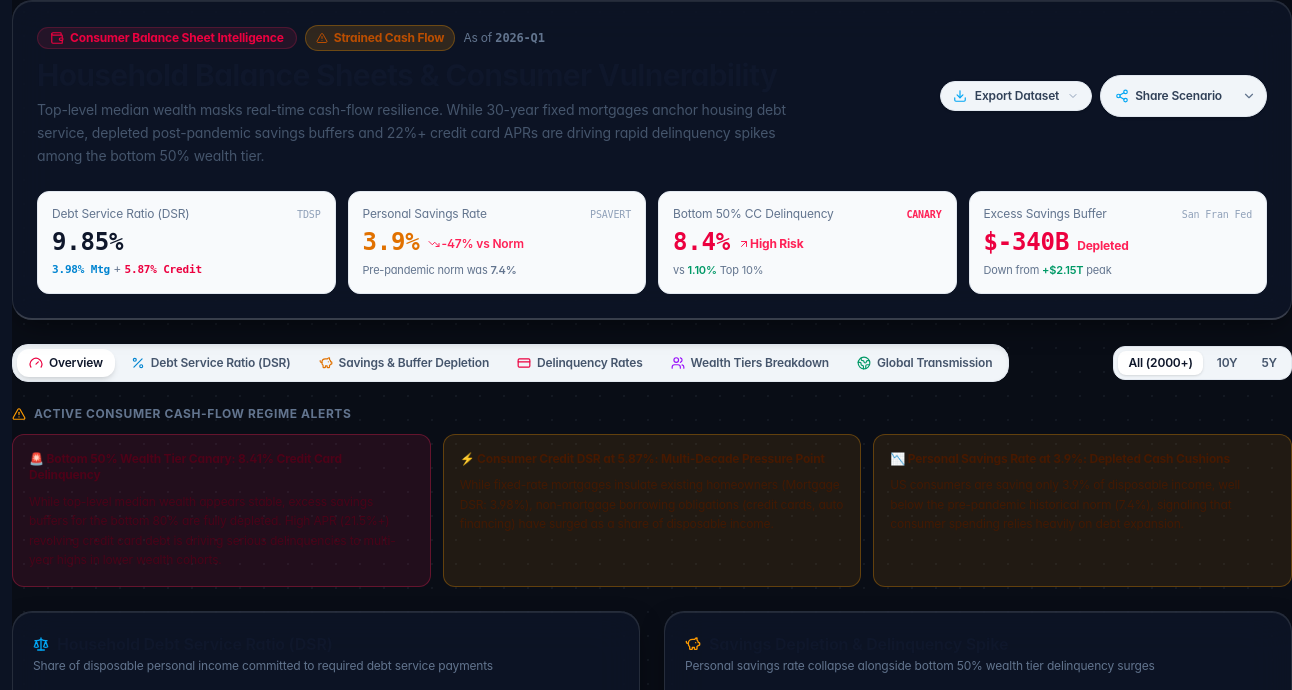
Test: HouseholdVulnerabilityRadar Component › switches to Debt Service Ratio (DSR) decomposition view
What coordinates should you click on to do the following:
click the button "Debt Service Ratio (DSR)"
I would click on:
 (211, 363)
Its box is [119,349,303,377].
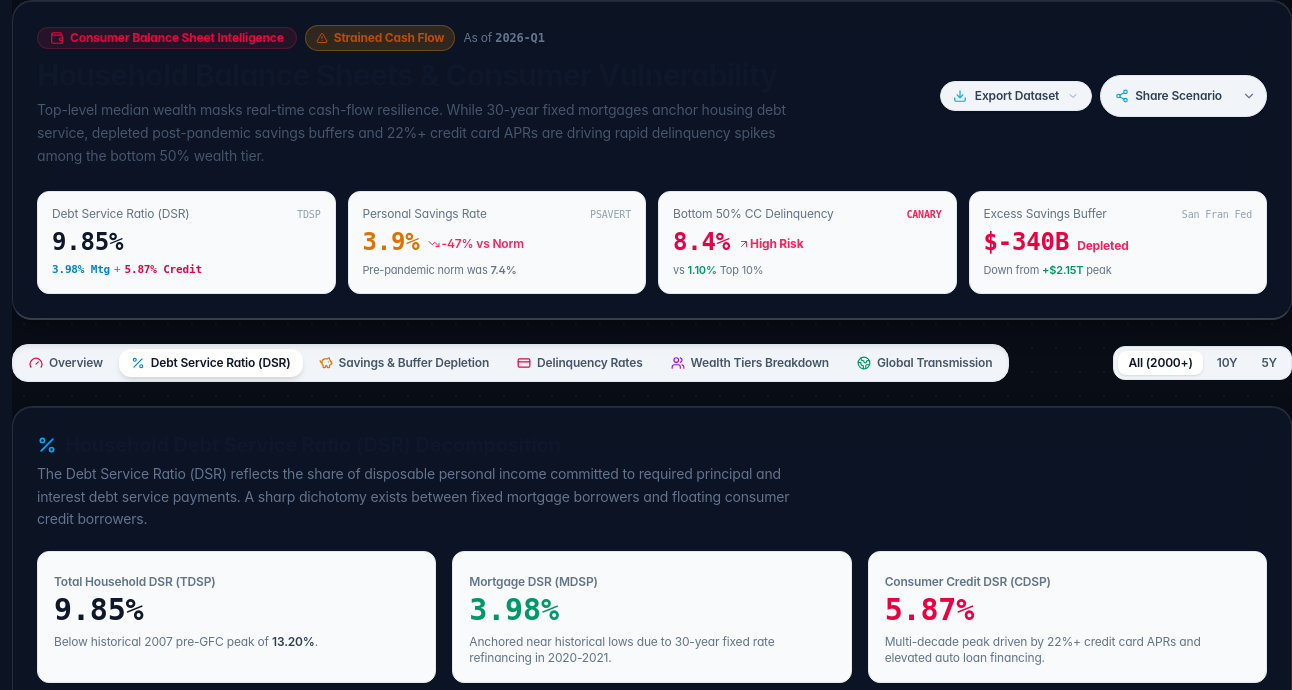
Result: the heading "Household Debt Service Ratio (DSR) Decomposition" is shown at [37,433,561,457]
Result: the text "Total Household DSR (TDSP)" is shown at [54,574,216,589]
Result: the text "Mortgage DSR (MDSP)" is shown at [469,574,598,589]
